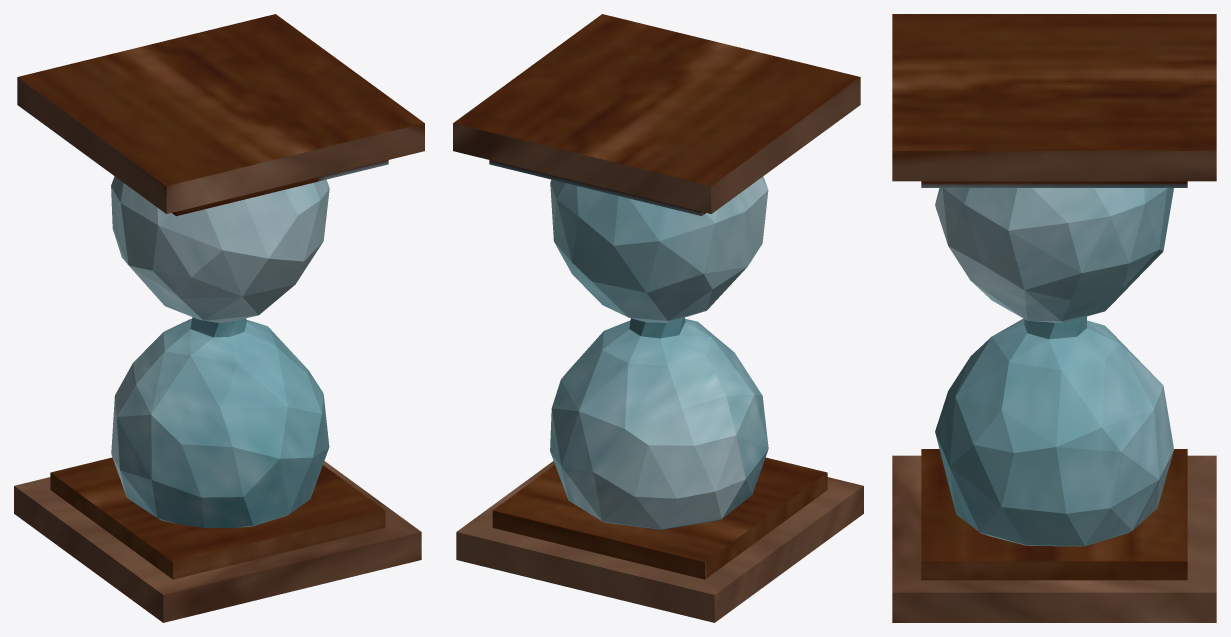
Rendered from Ampulheta_AMULETO.fbx.
3 renders of one model, left to right at view 1: azimuth 30°, elevation 25°; view 2: azimuth 150°, elevation 25°; view 3: azimuth 270°, elevation 25°, orthographic. The views are drawn at different scales.
Parts seen in each view (by area): view 1: Ampulheta; view 2: Ampulheta; view 3: Ampulheta.
Boxes of the visible parts, x1,y1,x2,y2 form: Ampulheta: (14, 14, 424, 622); Ampulheta: (453, 14, 863, 622); Ampulheta: (892, 14, 1216, 622).
Bounding box in the file's own units: 232 × 369 × 229.
